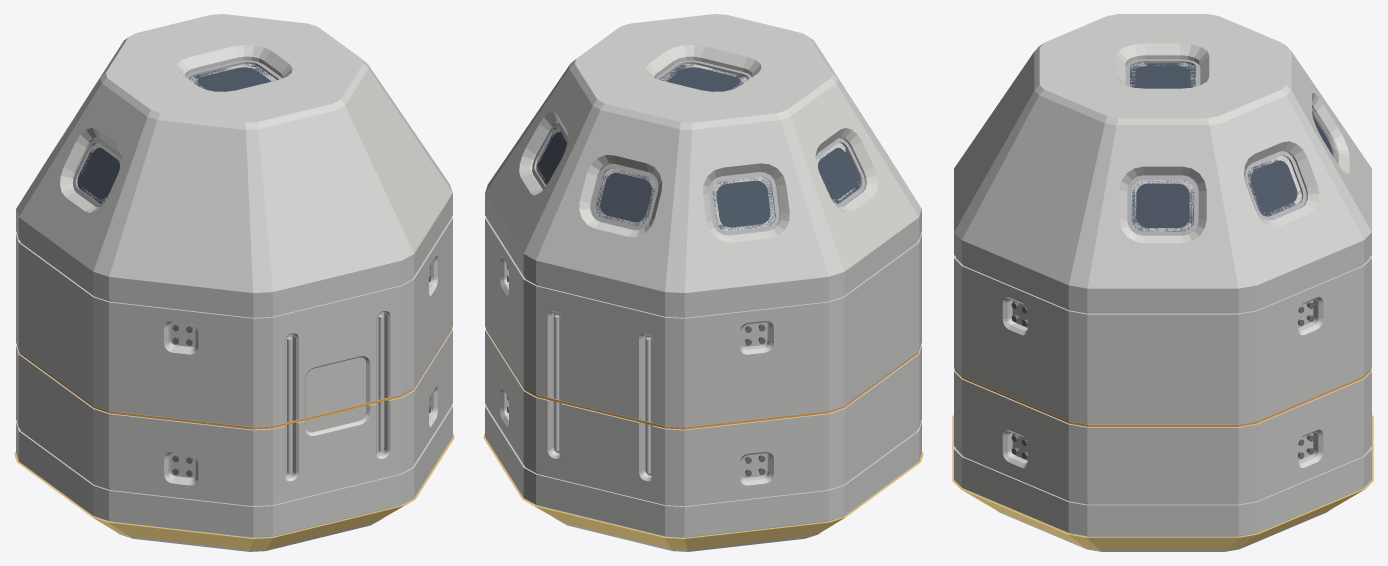
File: ax_cmd_06_tug_cab.glb
The picture shows the model from 3 angles, left to right: view 1: azimuth 30°, elevation 25°; view 2: azimuth 150°, elevation 25°; view 3: azimuth 270°, elevation 25°; orthographic projection.
Parts seen in each view (by area): view 1: shell, mli_aft_bulkhead, window_glass, handrails, orange_stripes, window_frames; view 2: shell, window_glass, mli_aft_bulkhead, window_frames, handrails, orange_stripes; view 3: shell, window_glass, mli_aft_bulkhead, window_frames, orange_stripes, rcs_nozzles.
Boxes of the visible parts, x1,y1,x2,y2 form: shell: (16,14,452,551); mli_aft_bulkhead: (14,433,454,549); window_glass: (77,64,275,203); handrails: (287,315,383,473); orange_stripes: (19,329,451,429); window_frames: (73,60,281,207); shell: (485,14,921,551); window_glass: (536,64,860,230); mli_aft_bulkhead: (483,433,923,549); window_frames: (532,60,864,235); handrails: (554,315,650,473); orange_stripes: (486,329,918,429); shell: (954,14,1371,551); window_glass: (1130,63,1332,231); mli_aft_bulkhead: (952,415,1373,549); window_frames: (1125,59,1336,235); orange_stripes: (955,369,1370,426); rcs_nozzles: (1011,302,1314,458).
Bounding box in the file's own units: 2.36 × 2.78 × 2.36.
